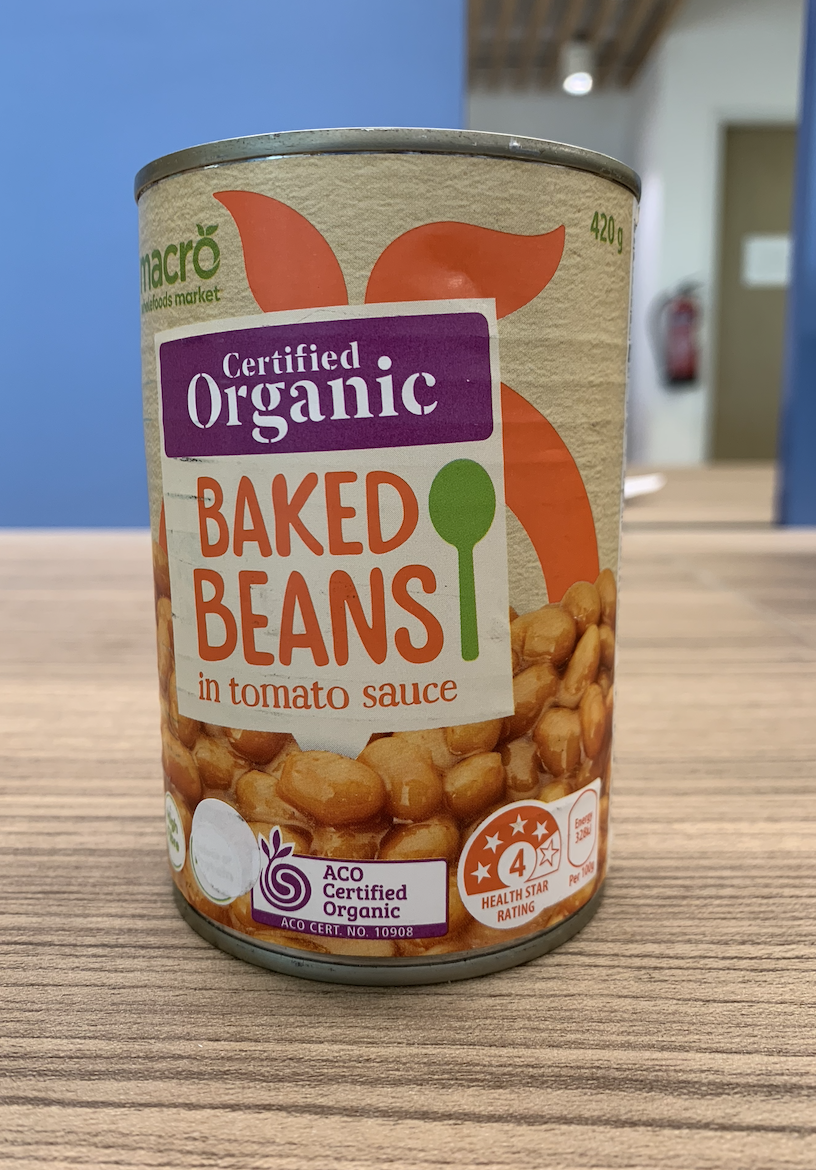Baked beans_400-499g: (138, 157, 612, 940)
